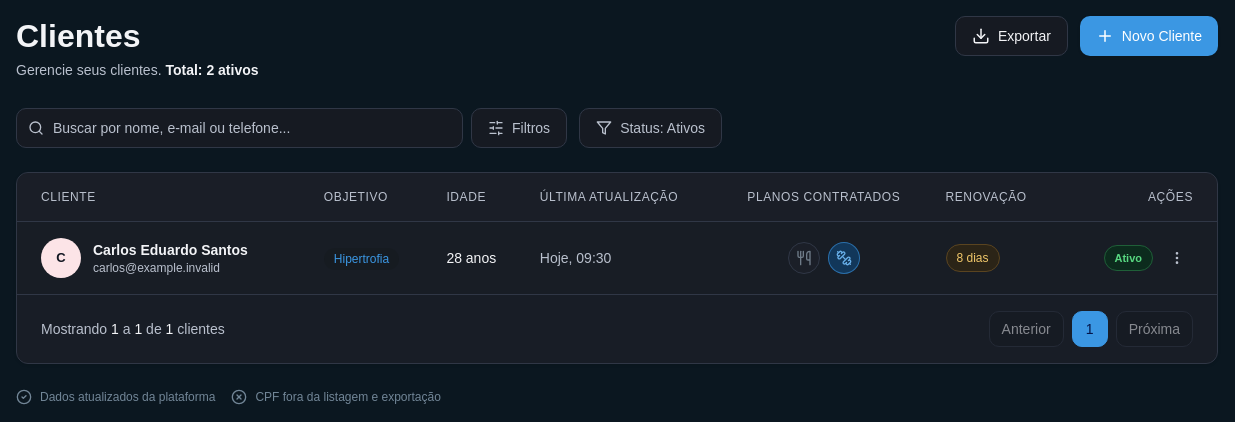
Test case: PartnerClientsView › exibe as ações do cliente em um popover
The width and height of the screenshot is (1235, 422).
Click the button named "Abrir ações de Carlos Eduardo Santos": (1177, 258) [1161, 242, 1193, 274]
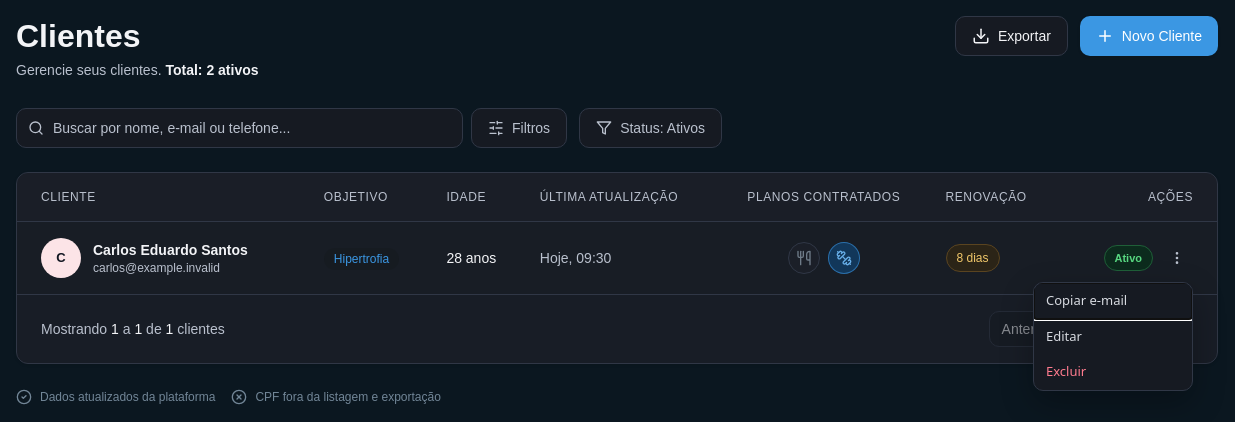
Now the menu is shown, box [1033, 282, 1193, 390]
Now the menu item "Copiar e-mail" is shown, box [1034, 283, 1192, 318]
Now the menu item "Editar" is shown, box [1034, 318, 1192, 354]
